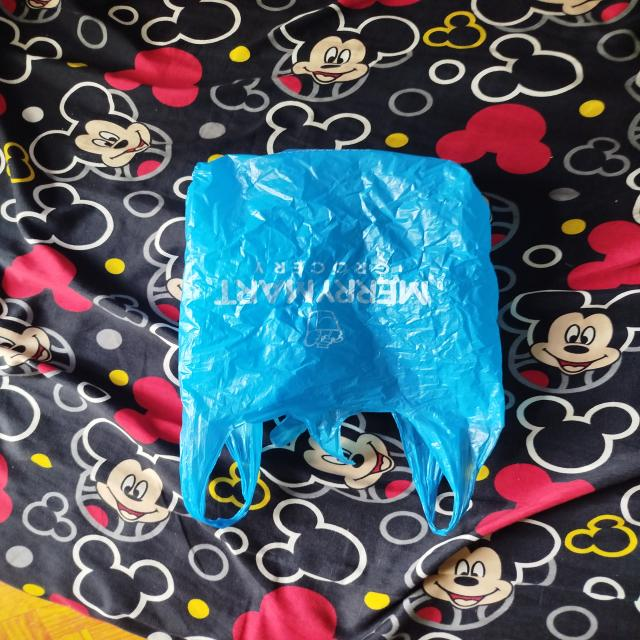residual: (168, 145, 532, 560)
